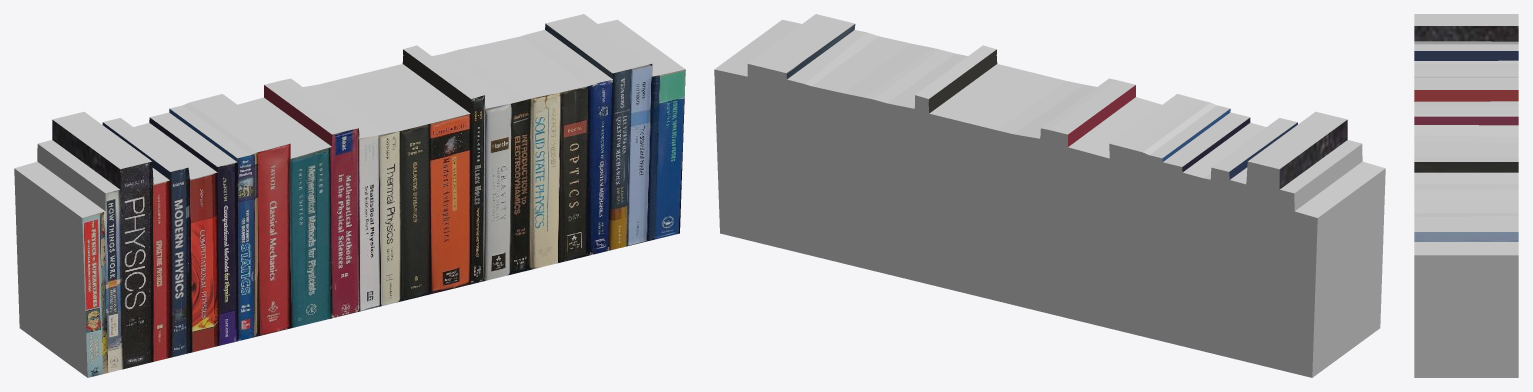
The model's file is books_3.fbx.
The picture shows the model from 3 angles, left to right: view 1: azimuth 30°, elevation 25°; view 2: azimuth 150°, elevation 25°; view 3: azimuth 270°, elevation 25°; orthographic projection. The views are drawn at different scales.
Visible parts, largest first — view 1: Selection; view 2: Selection; view 3: Selection.
Boxes of the visible parts, x1=… form: Selection: x1=14, y1=14, x2=685, y2=377; Selection: x1=714, y1=14, x2=1385, y2=377; Selection: x1=1414, y1=14, x2=1518, y2=377.
Size of the model in its own units: 168 by 53.52 by 32.89.
